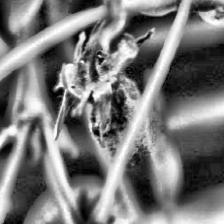Gray Mold: (53, 18, 156, 172)
